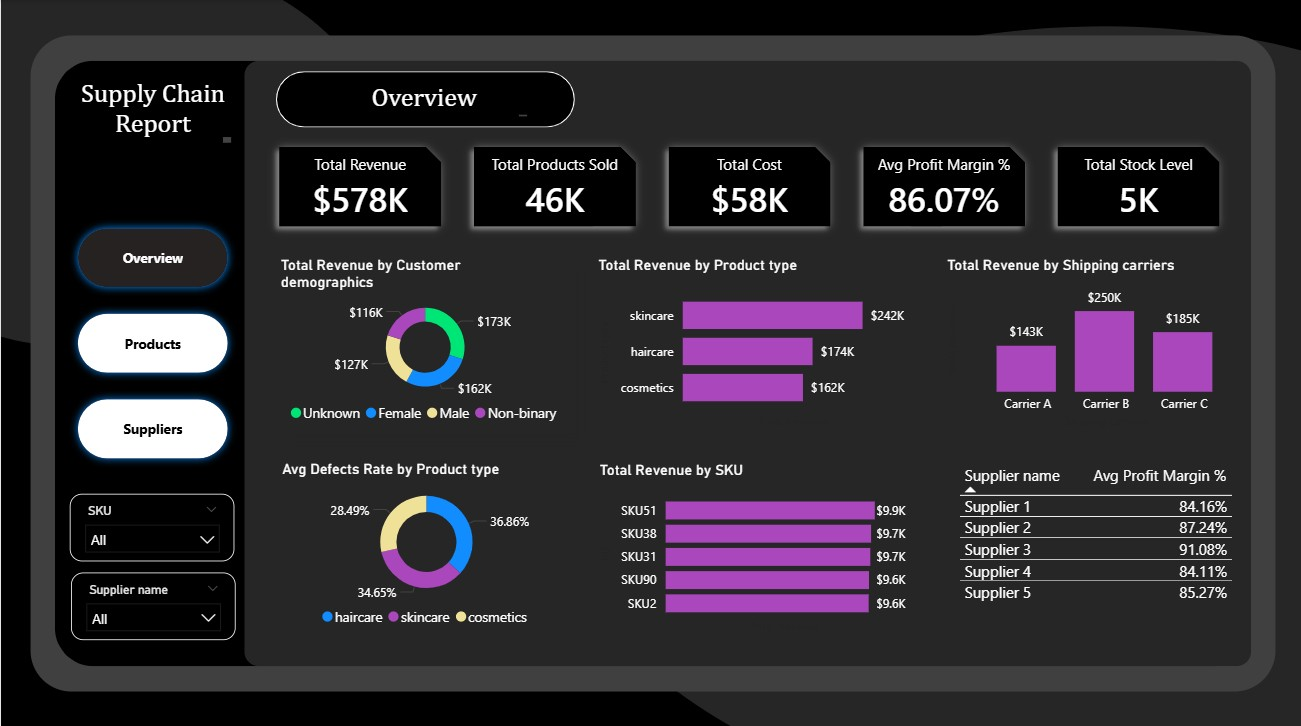

What the dashboard file says about the page in this screenshot:
{"tool":"powerbi","page":{"name":"Overview","canvas":[1280,720],"ordinal":0},"visuals":[{"type":"cardVisual","fields":{"Data":["Measure.Total Revenue","Measure.Total Products Sold","Measure.Total Cost","Measure.Avg Profit Margin %","Measure.Total Stock Level"]},"box":[244.2,115.3,984.1,136.2],"z":0},{"type":"slicer","fields":{"Values":["supply_chain_data.SKU"]},"box":[67.5,484.7,162,66.3],"z":1000},{"type":"shape","box":[269.9,69.9,293.3,55.2],"z":2000},{"type":"slicer","fields":{"Values":["supply_chain_data.Supplier name"]},"box":[68.7,562,162,66.3],"z":3000},{"type":"donutChart","fields":{"Y":["Measure.Total Revenue"],"Category":["supply_chain_data.Customer demographics"]},"box":[269.9,251.5,293.3,173],"z":4000},{"type":"textbox","title":"Overview","box":[309.3,82.3,212.3,36.8],"z":5000},{"type":"donutChart","fields":{"Y":["Measure.Avg Defects Rate"],"Category":["supply_chain_data.Product type"]},"box":[271.2,451.5,293.3,173],"z":6000},{"type":"clusteredBarChart","fields":{"Y":["Measure.Total Revenue"],"Category":["supply_chain_data.Product type"]},"box":[581.6,251.5,310.4,173],"z":7000},{"type":"clusteredBarChart","fields":{"Y":["Measure.Total Revenue"],"Category":["supply_chain_data.SKU"]},"box":[582.8,452.8,310.4,173],"z":8000},{"type":"columnChart","fields":{"Y":["Measure.Total Revenue"],"Category":["supply_chain_data.Shipping carriers"]},"box":[923.9,251.5,304.3,173],"z":9000},{"type":"tableEx","fields":{"Values":["supply_chain_data.Supplier name","Measure.Avg Profit Margin %"]},"box":[935,451.5,282.2,176.7],"z":10000},{"type":"pageNavigator","box":[67.5,216,163.2,242.9],"z":11000},{"type":"textbox","title":"Supply Chain Report","box":[67.5,78.5,163.2,66.3],"z":12000}]}

Visuals, with their boxes in screenshot pixels (x1, y1, x2, y2), scaled from the page's 1280x720 canvas onto the 1301x726 screenshot:
cardVisual - Measure.Total Revenue x Measure.Total Products Sold: [left=248, top=116, right=1248, bottom=254]
slicer - supply_chain_data.SKU: [left=69, top=489, right=233, bottom=556]
shape: [left=274, top=70, right=572, bottom=126]
slicer - supply_chain_data.Supplier name: [left=70, top=567, right=234, bottom=634]
donutChart - Measure.Total Revenue x supply_chain_data.Customer demographics: [left=274, top=254, right=572, bottom=428]
"Overview" textbox: [left=314, top=83, right=530, bottom=120]
donutChart - Measure.Avg Defects Rate x supply_chain_data.Product type: [left=276, top=455, right=574, bottom=630]
clusteredBarChart - Measure.Total Revenue x supply_chain_data.Product type: [left=591, top=254, right=907, bottom=428]
clusteredBarChart - Measure.Total Revenue x supply_chain_data.SKU: [left=592, top=457, right=908, bottom=631]
columnChart - Measure.Total Revenue x supply_chain_data.Shipping carriers: [left=939, top=254, right=1248, bottom=428]
tableEx - supply_chain_data.Supplier name x Measure.Avg Profit Margin %: [left=950, top=455, right=1237, bottom=633]
pageNavigator: [left=69, top=218, right=234, bottom=463]
"Supply Chain Report" textbox: [left=69, top=79, right=234, bottom=146]
